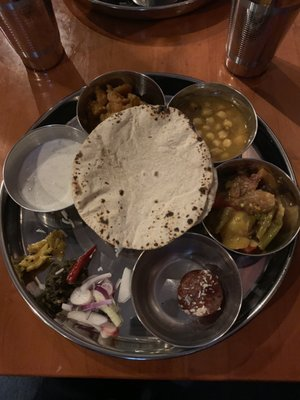pizza: (224, 0, 300, 78), (0, 0, 65, 71)
sushi: (1, 45, 300, 386), (130, 233, 243, 347), (202, 158, 300, 264), (2, 125, 88, 213), (166, 83, 258, 165)
